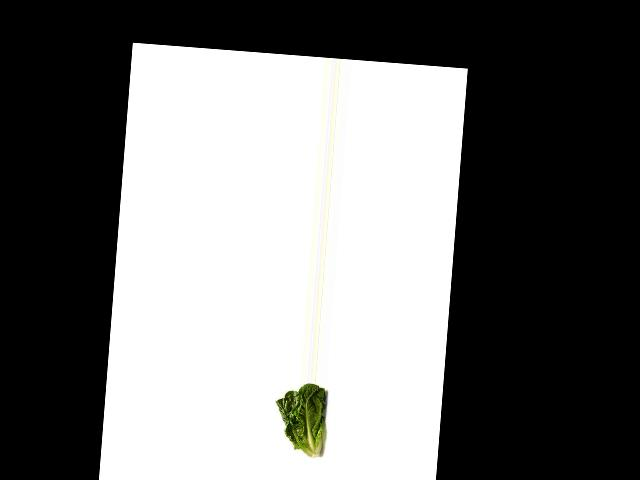lettuce: (271, 380, 338, 462)
